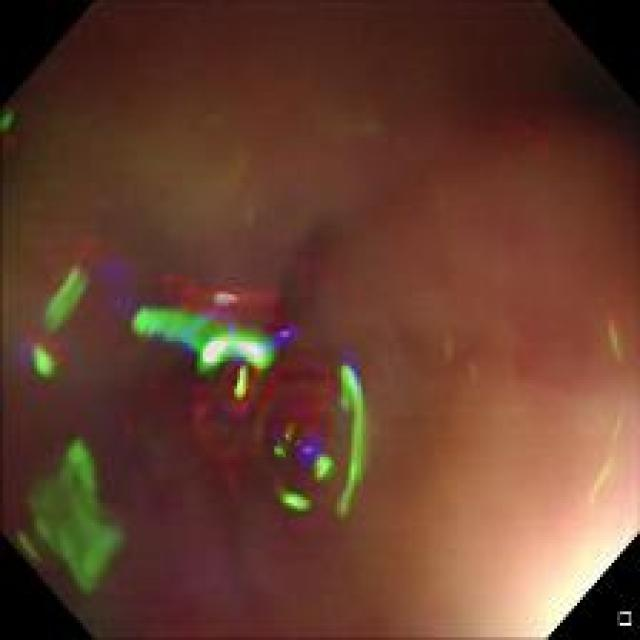color misalignment: (8, 10, 630, 624), (132, 268, 378, 526), (19, 429, 121, 595), (26, 260, 89, 384), (582, 416, 625, 510), (604, 311, 625, 365)
contrast: (451, 18, 631, 145)
saturation: (502, 508, 636, 636)
